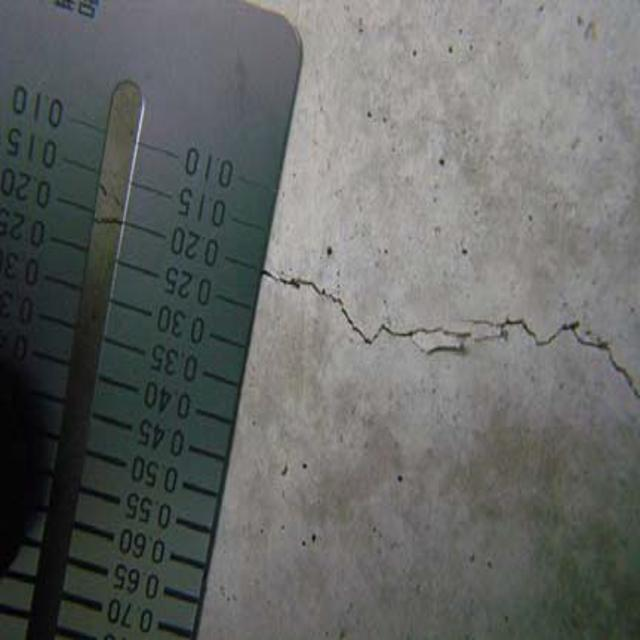crack: (270, 247, 637, 404)
